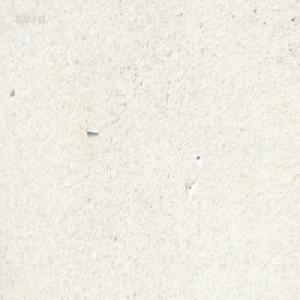Nail: (86, 127, 99, 135)
